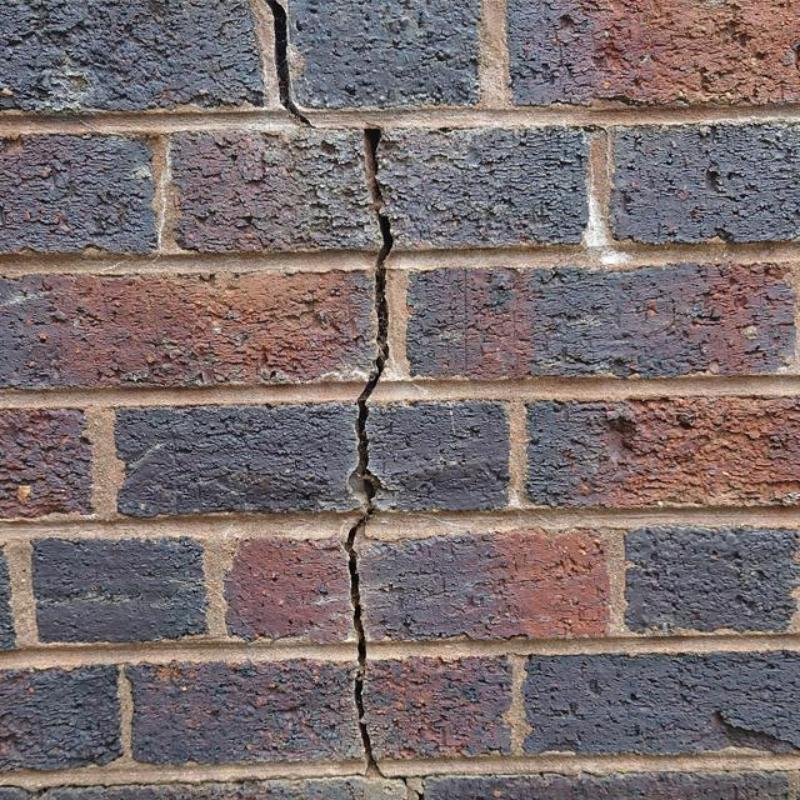pothole: (358, 128, 394, 501), (345, 498, 380, 776), (266, 0, 309, 124), (380, 773, 407, 783), (415, 791, 424, 800)
